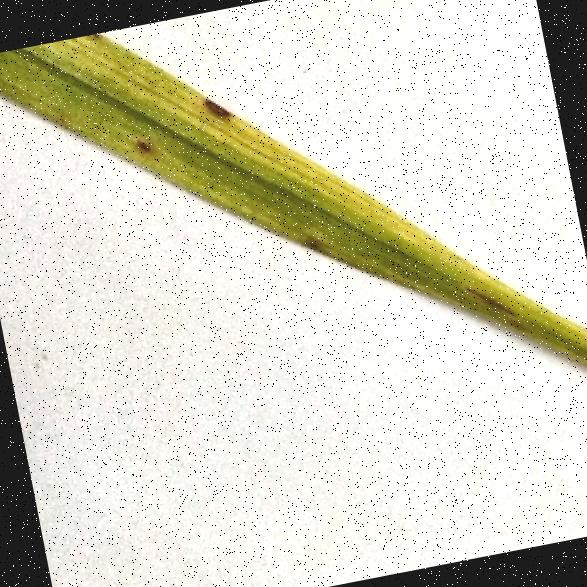Leaf_smut: (452, 256, 537, 339)
